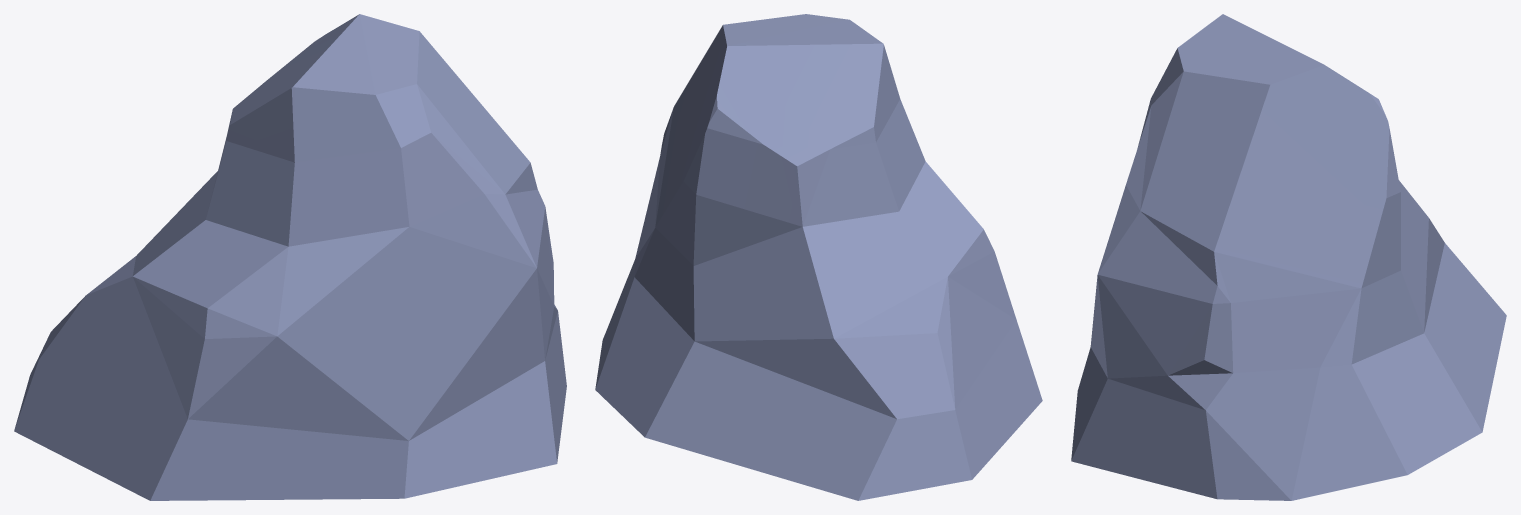
The model's file is Rock_24.fbx.
3 renders of one model, left to right at view 1: azimuth 30°, elevation 25°; view 2: azimuth 150°, elevation 25°; view 3: azimuth 270°, elevation 25°, orthographic. The views are drawn at different scales.
Parts seen in each view (by area): view 1: Rock_24; view 2: Rock_24; view 3: Rock_24.
Part boxes in pixels (<box>): Rock_24: <box>14,14,566,500</box>; Rock_24: <box>595,14,1042,500</box>; Rock_24: <box>1071,14,1506,500</box>.
Bounding box in the file's own units: 5.53 × 4.28 × 4.64.
